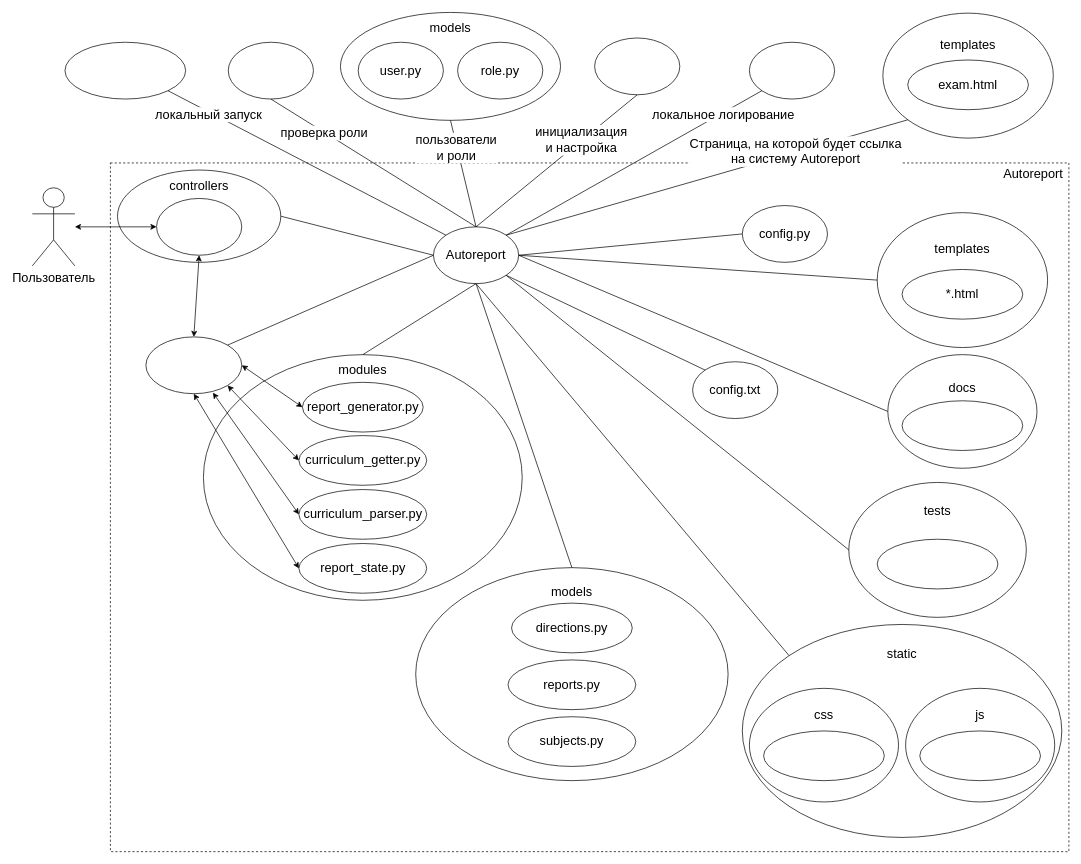
This 1081x864 diagram has some shape labels left out. The centre of each missing label's shape, as x and y in pixels:
*.css: (x=823, y=755)
*.doc: (x=962, y=425)
*.js: (x=980, y=755)
__init__.py: (x=637, y=66)
autoreport.log: (x=792, y=70)
autoreport.py: (x=199, y=226)
funcs.py: (x=193, y=365)
runlocalserver.py: (x=125, y=70)
test_app.py: (x=937, y=564)
utils.py: (x=270, y=70)
